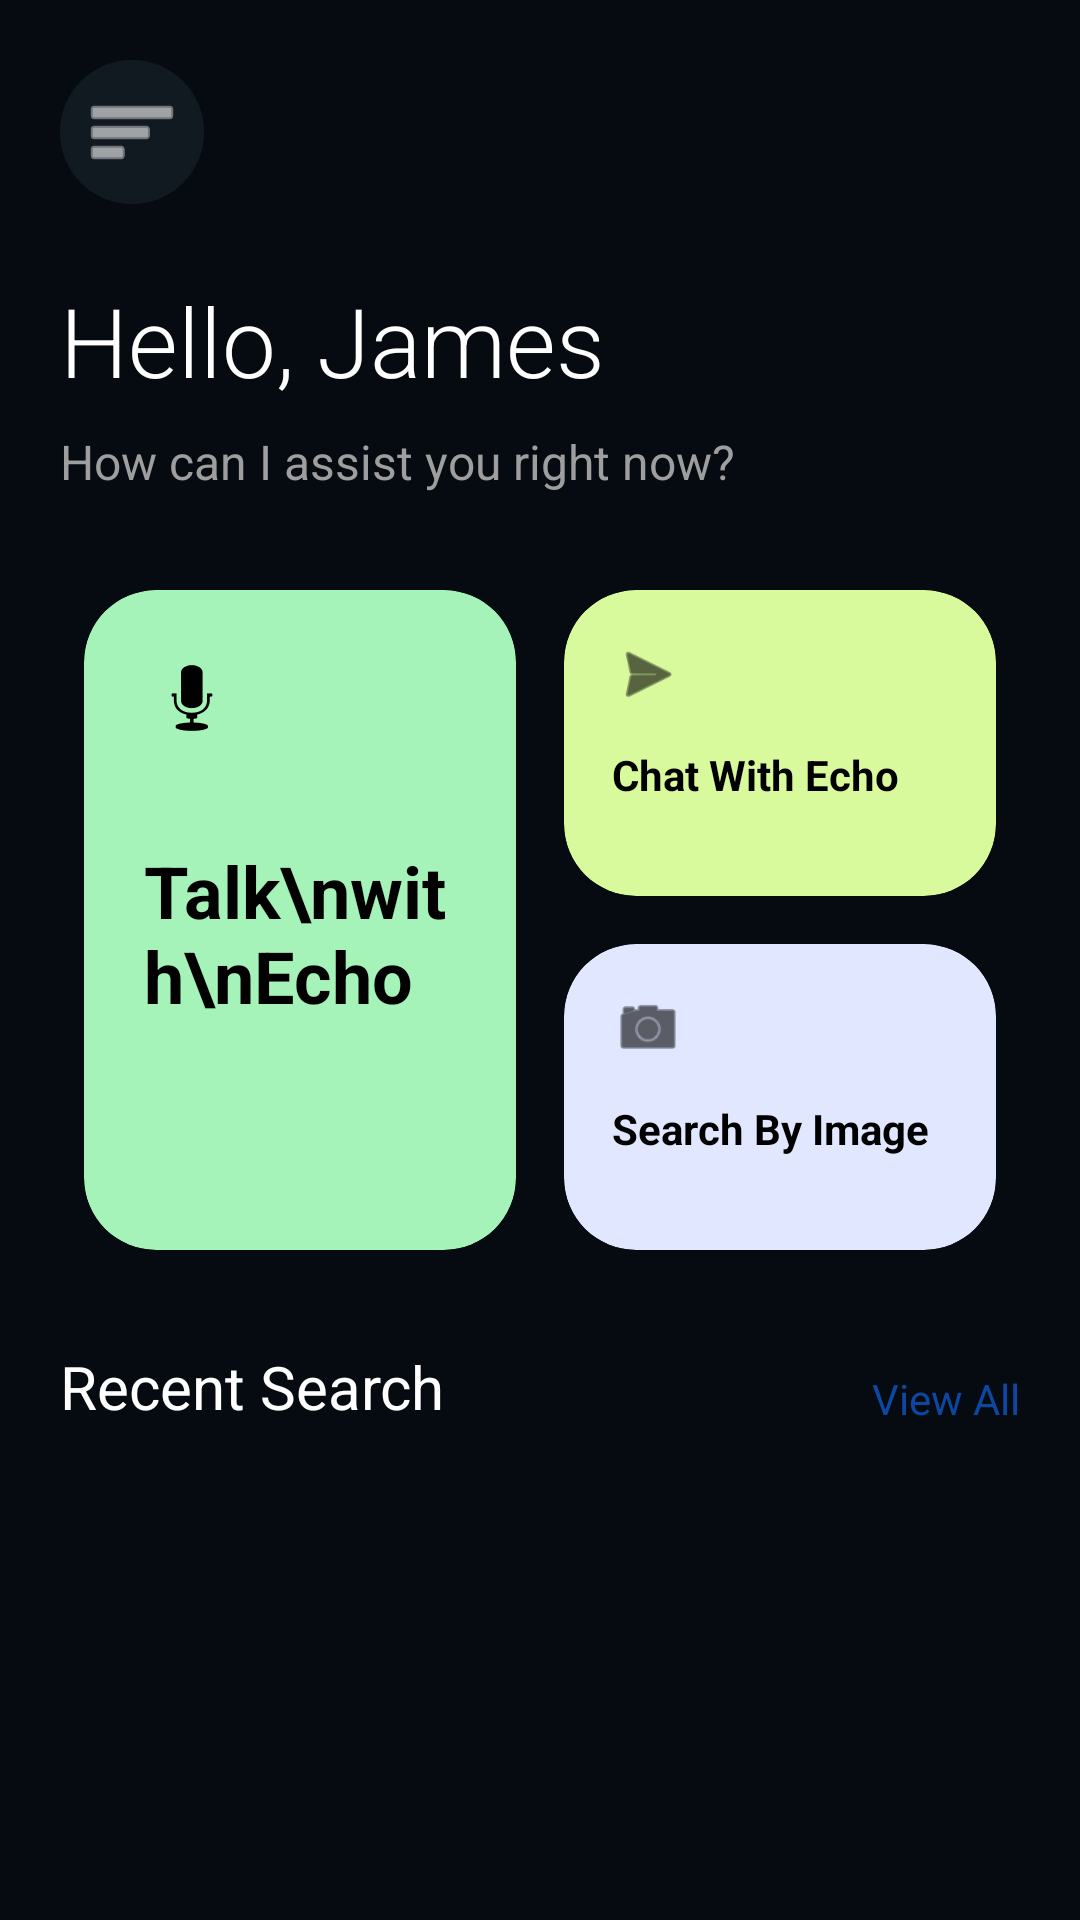

Icons on this 1080 × 1920 Android screen, each with its box as [x1,y1,x2,y2]:
camera: [620,1005,676,1049]
send: [626,652,672,697]
sort by size: [90,105,174,160]
speak now: [171,665,213,731]
